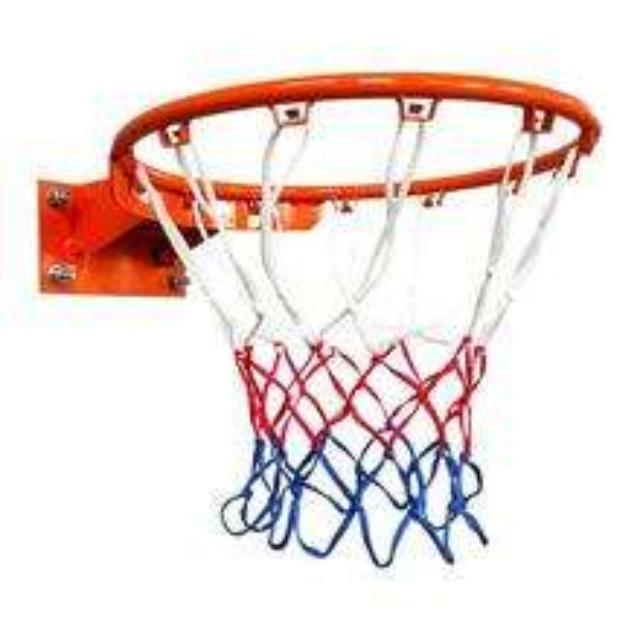rim: (111, 70, 604, 570)
